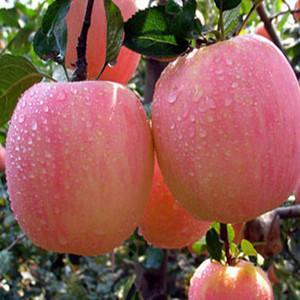apple: (150, 32, 300, 224), (8, 82, 152, 255), (187, 254, 273, 299)
